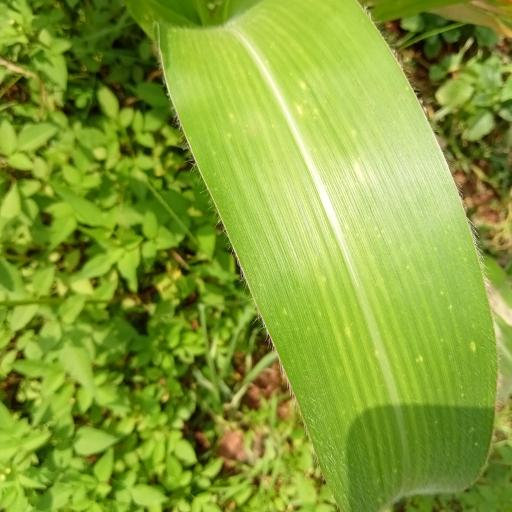Corn_Brown_Spots: (150, 0, 512, 512)
